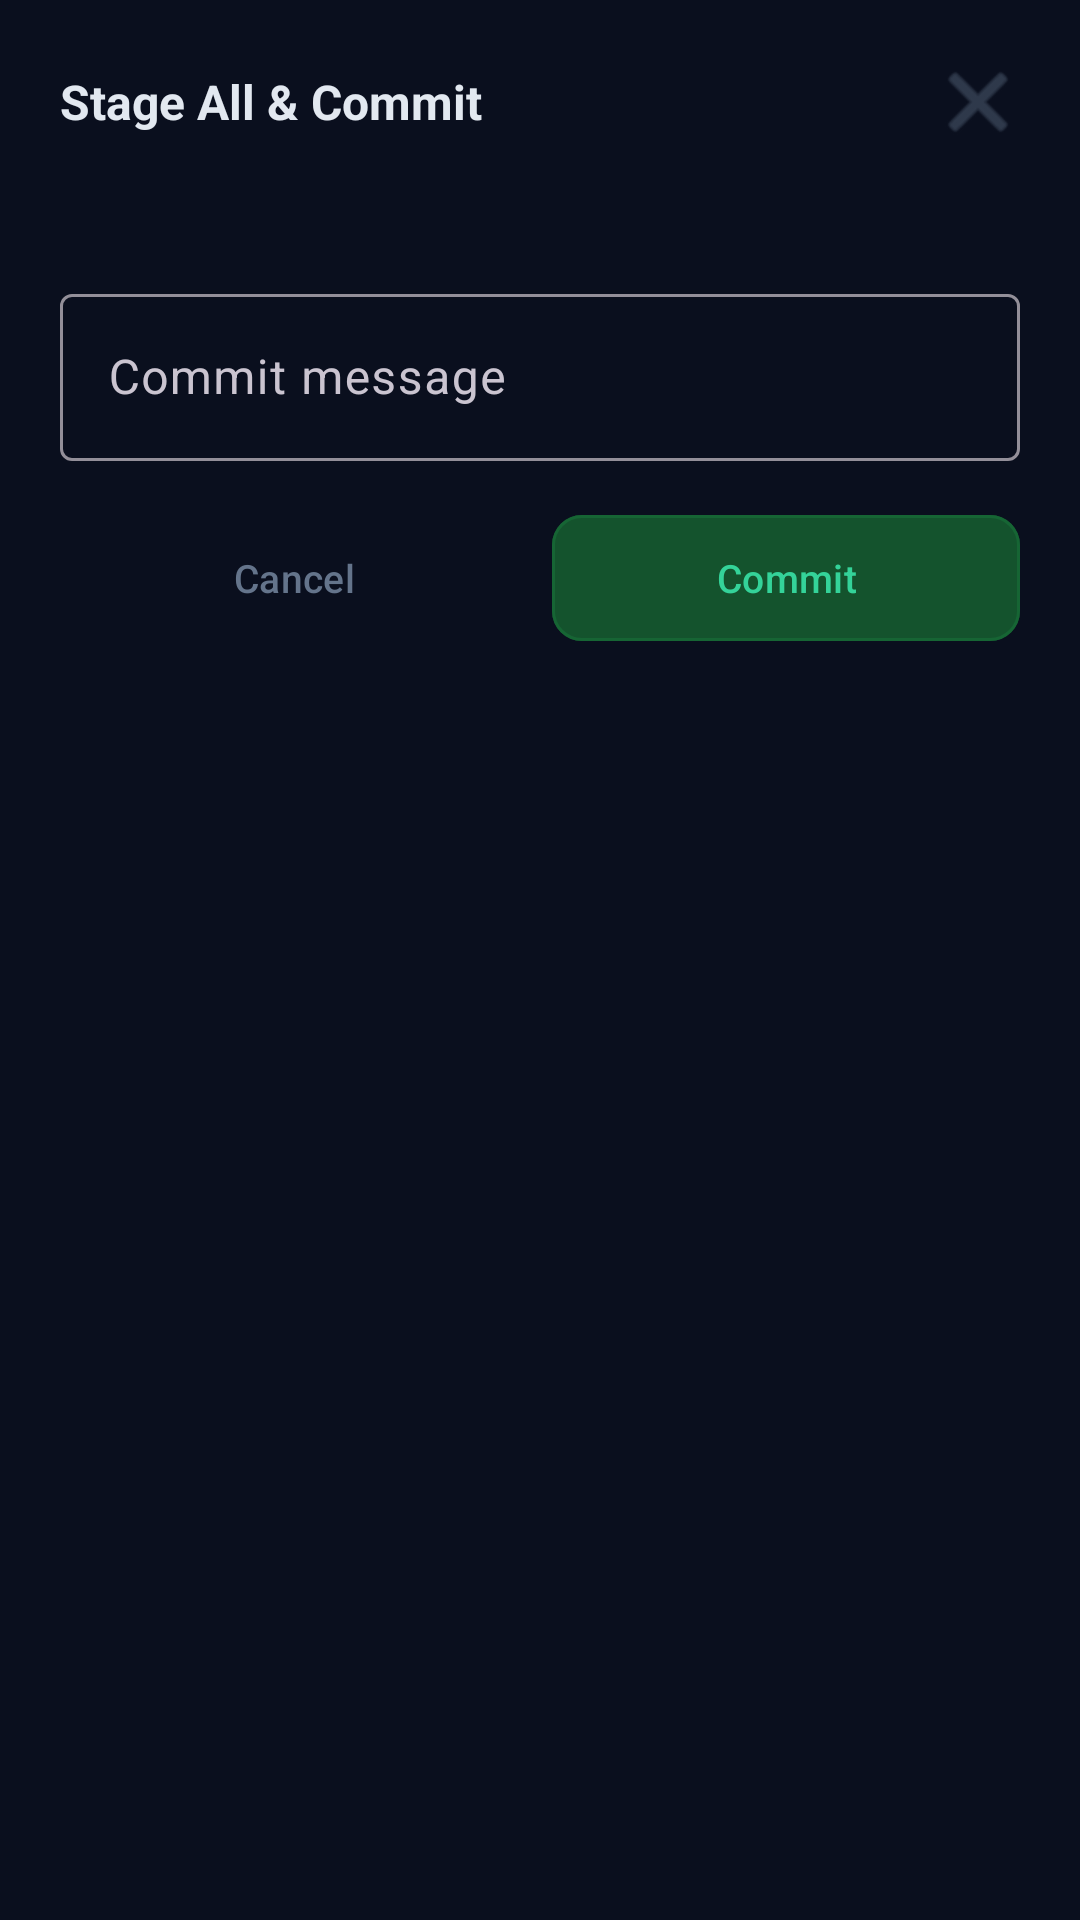

Icon click points for this 1080w x 1920h phone screenshot, format (x=x, y=y):
Close: (x=978, y=102)
